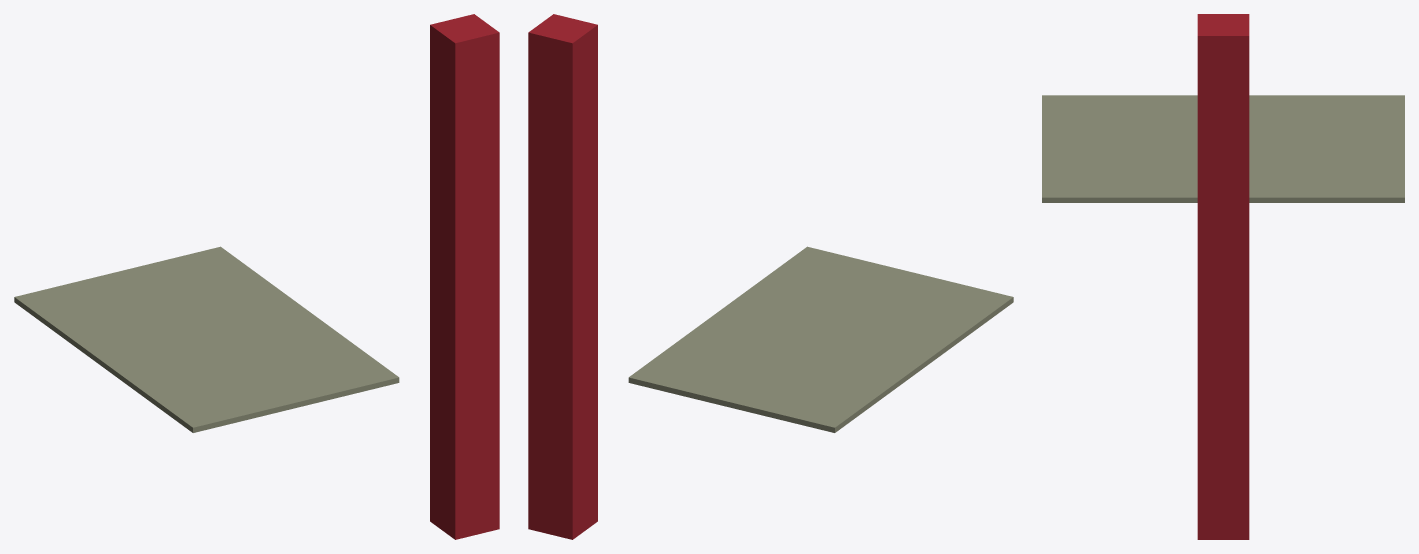
File: card.glb
3 renders of one model, left to right at view 1: azimuth 30°, elevation 25°; view 2: azimuth 150°, elevation 25°; view 3: azimuth 270°, elevation 25°, orthographic.
Parts seen in each view (by area): view 1: Cube, Stella; view 2: Cube, Stella; view 3: Cube, Stella.
Part boxes in pixels (bbox=[...]): Cube: bbox=[14, 246, 399, 432]; Stella: bbox=[430, 14, 499, 539]; Cube: bbox=[628, 246, 1013, 432]; Stella: bbox=[528, 14, 597, 539]; Cube: bbox=[1042, 95, 1404, 202]; Stella: bbox=[1197, 14, 1249, 539].
Bounding box in the file's own units: 0.0743 × 0.092 × 0.06.
